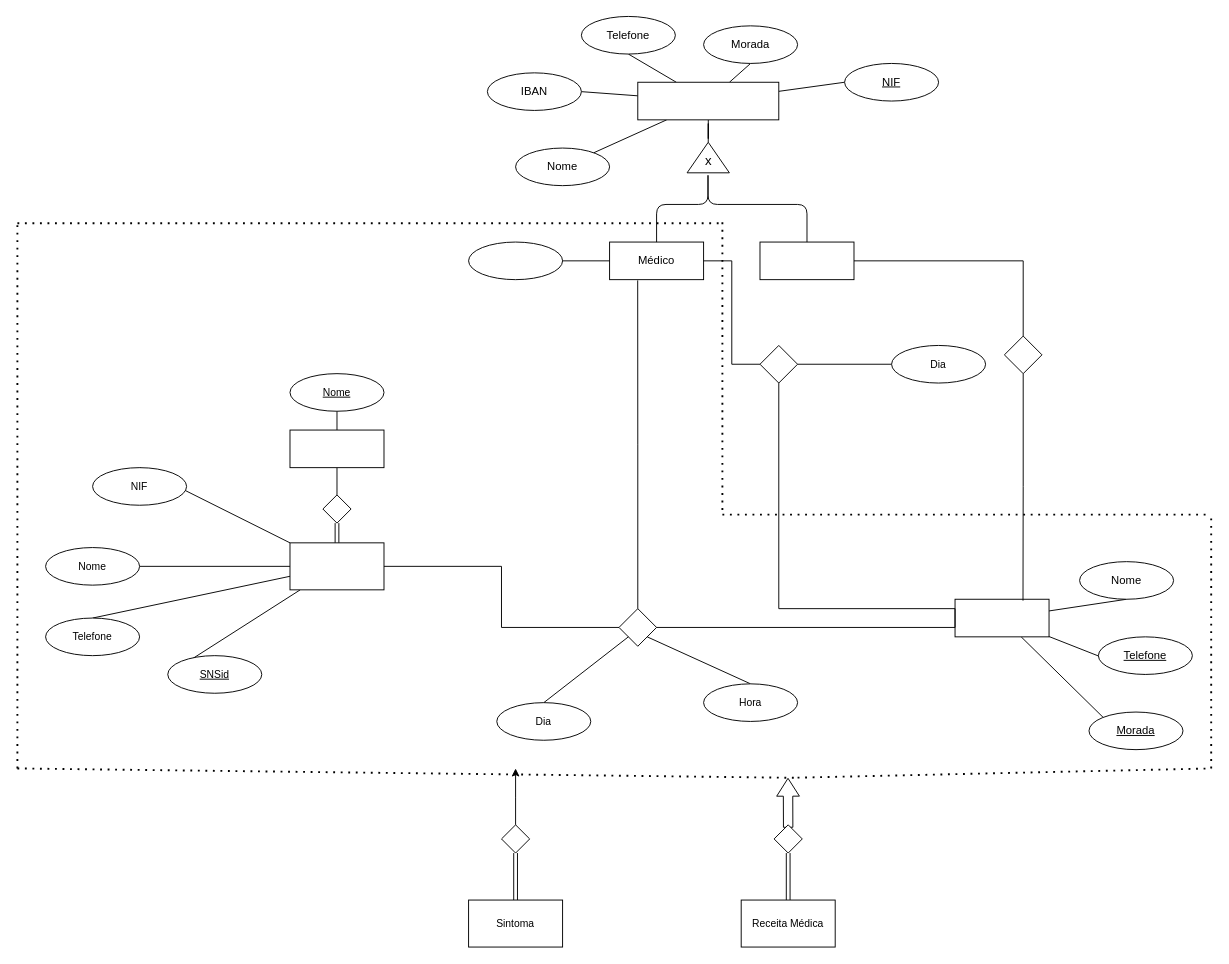
The diagram is 1229 pixels wide and 964 high, and some of its shapes have lost their labels. Each missing label, with the centre of its shape:
"Clínica" belongs at (x=1001, y=617).
"Enfermeiro" belongs at (x=806, y=260).
"Especialidade" belongs at (x=515, y=260).
"Paciente" belongs at (x=336, y=566).
"Profissional de Saúde" belongs at (x=708, y=100).
"Sistema de Saúde" belongs at (x=336, y=448).
